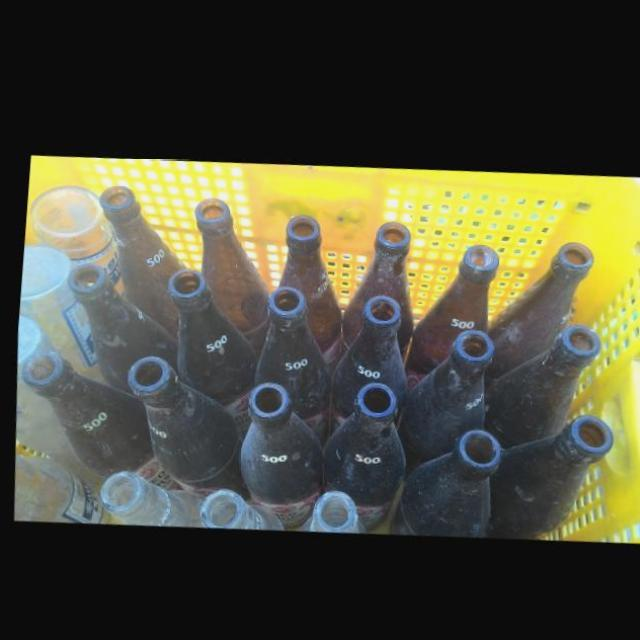chai_thuy_tinh: (18, 351, 181, 488), (121, 354, 248, 494), (482, 406, 612, 530), (162, 266, 253, 440), (481, 233, 589, 371), (62, 261, 173, 393), (480, 314, 595, 441), (92, 184, 182, 337), (399, 237, 494, 381), (397, 322, 490, 467), (236, 378, 323, 525), (386, 421, 503, 529), (320, 378, 404, 526), (185, 195, 264, 348), (251, 282, 327, 435), (327, 289, 402, 429), (272, 211, 336, 369), (337, 215, 407, 353), (97, 469, 200, 524), (198, 485, 284, 525), (298, 484, 365, 527)
